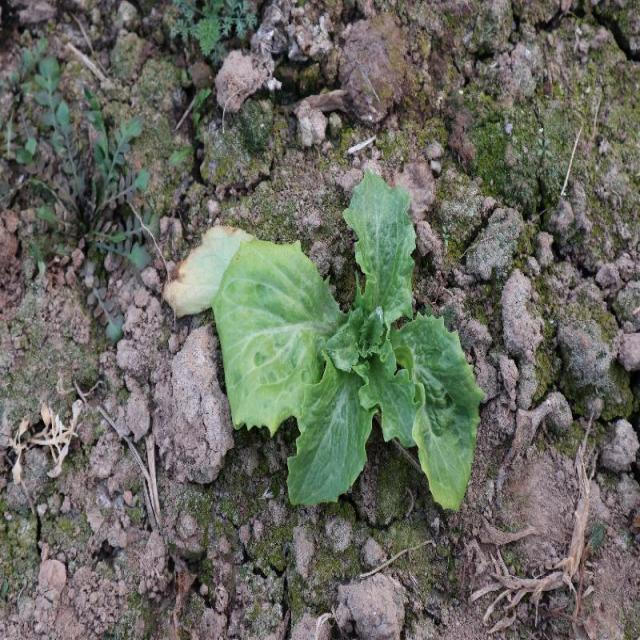crop: (211, 166, 483, 516)
